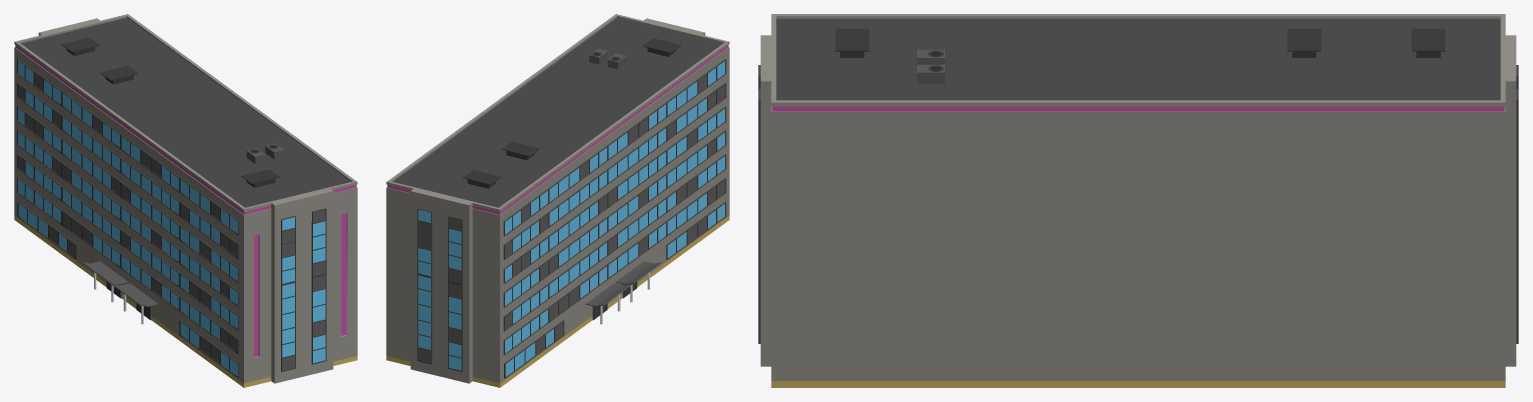
Rendered from building j 1.FBX.
3 renders of one model, left to right at view 1: azimuth 30°, elevation 25°; view 2: azimuth 150°, elevation 25°; view 3: azimuth 270°, elevation 25°, orthographic. The views are drawn at different scales.
Visible parts, largest first — view 1: Box294; view 2: Box294; view 3: Box294.
Part boxes in pixels (bbox=[...]): Box294: bbox=[14, 14, 357, 387]; Box294: bbox=[386, 14, 729, 387]; Box294: bbox=[758, 14, 1518, 387].
Size of the model in its own units: 59.05 by 78.58 by 184.
Materials: 1 (1 with a texture image).
